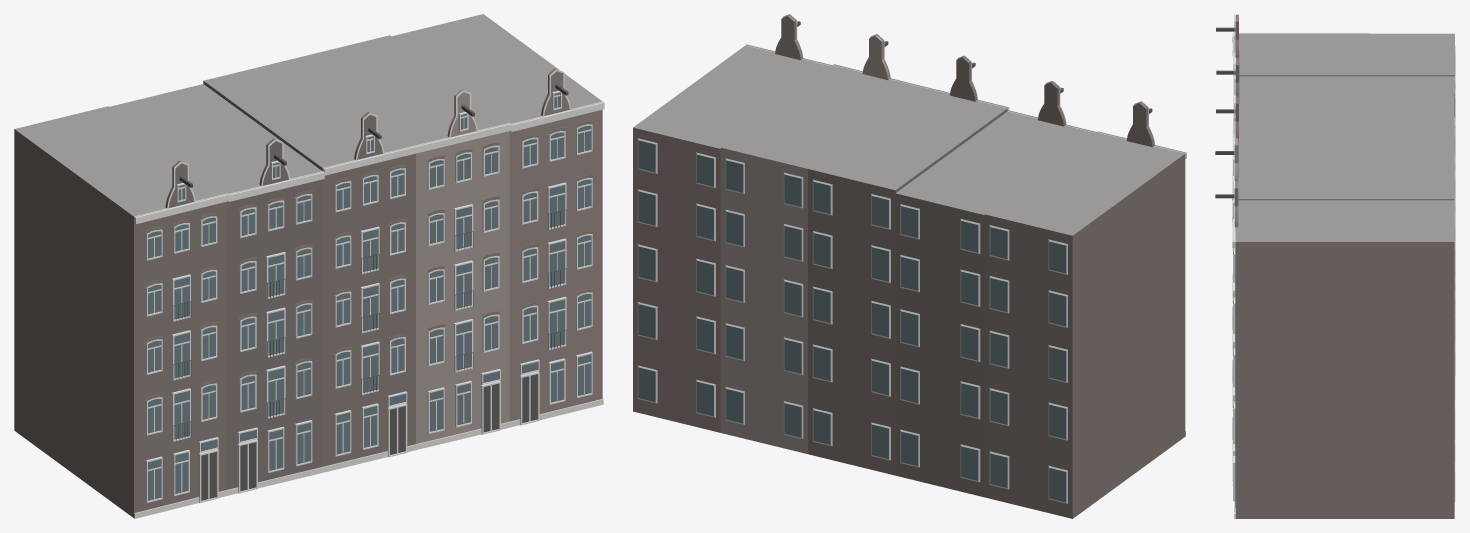
Rendered from chunk-face-hasebroek-1-41-r2.glb.
3 views of the same model, side by side, from view 1: azimuth 30°, elevation 25°; view 2: azimuth 150°, elevation 25°; view 3: azimuth 270°, elevation 25° (orthographic). The views are drawn at different scales.
Visible parts, largest first — view 1: face-hasebroek-1-41-r2; view 2: face-hasebroek-1-41-r2; view 3: face-hasebroek-1-41-r2.
Boxes of the visible parts, x1,y1,x2,y2 form: face-hasebroek-1-41-r2: (14,14,604,518); face-hasebroek-1-41-r2: (633,14,1186,518); face-hasebroek-1-41-r2: (1215,14,1455,518).
Bounding box in the file's own units: 27.15 × 19.27 × 13.17.
